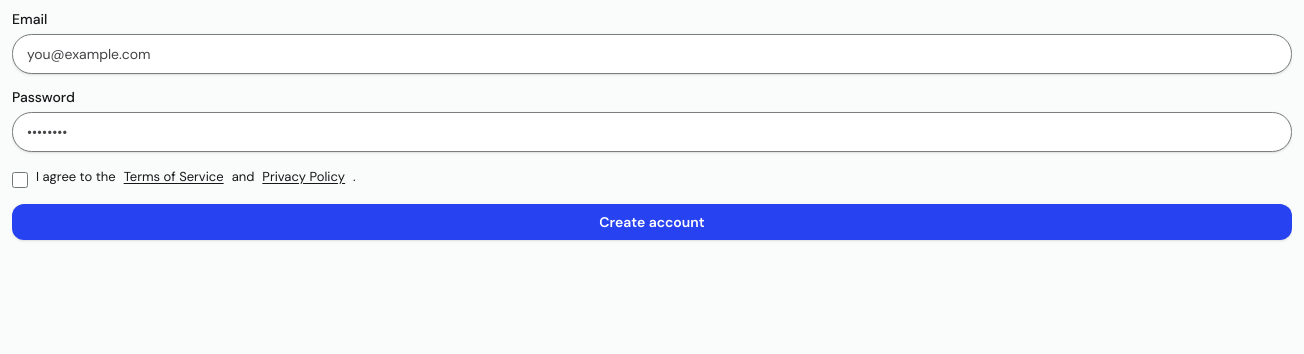
Test: SignUpForm › shows password requirement hint when password is too weak
Type "test@example.com" into the field labelled "Email" at (652, 54), box left=12, top=34, right=1292, bottom=74
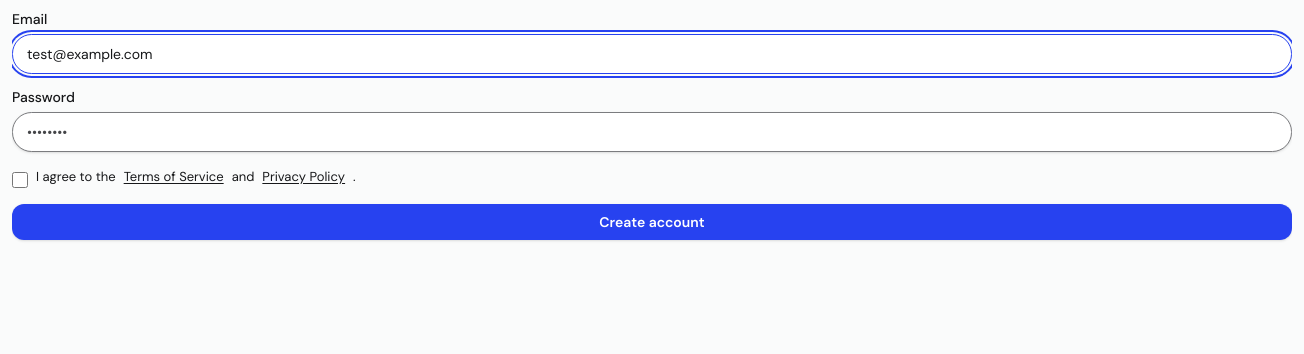
Type "weak" into the password field labelled "Password" at (652, 132), box left=12, top=112, right=1292, bottom=152
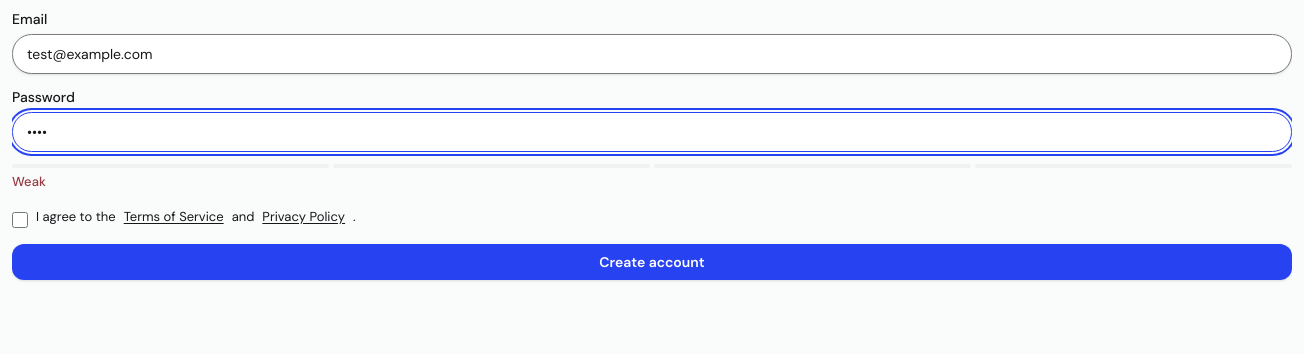
Click the button "Create account" at (652, 262), box left=12, top=244, right=1292, bottom=280
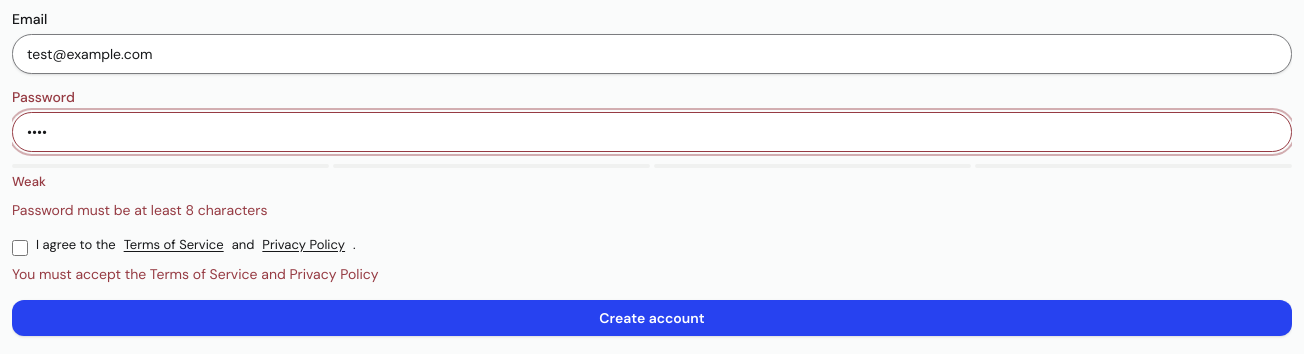
Expected: the text "Password must be at least 8 characters" is shown, left=12, top=201, right=267, bottom=219
